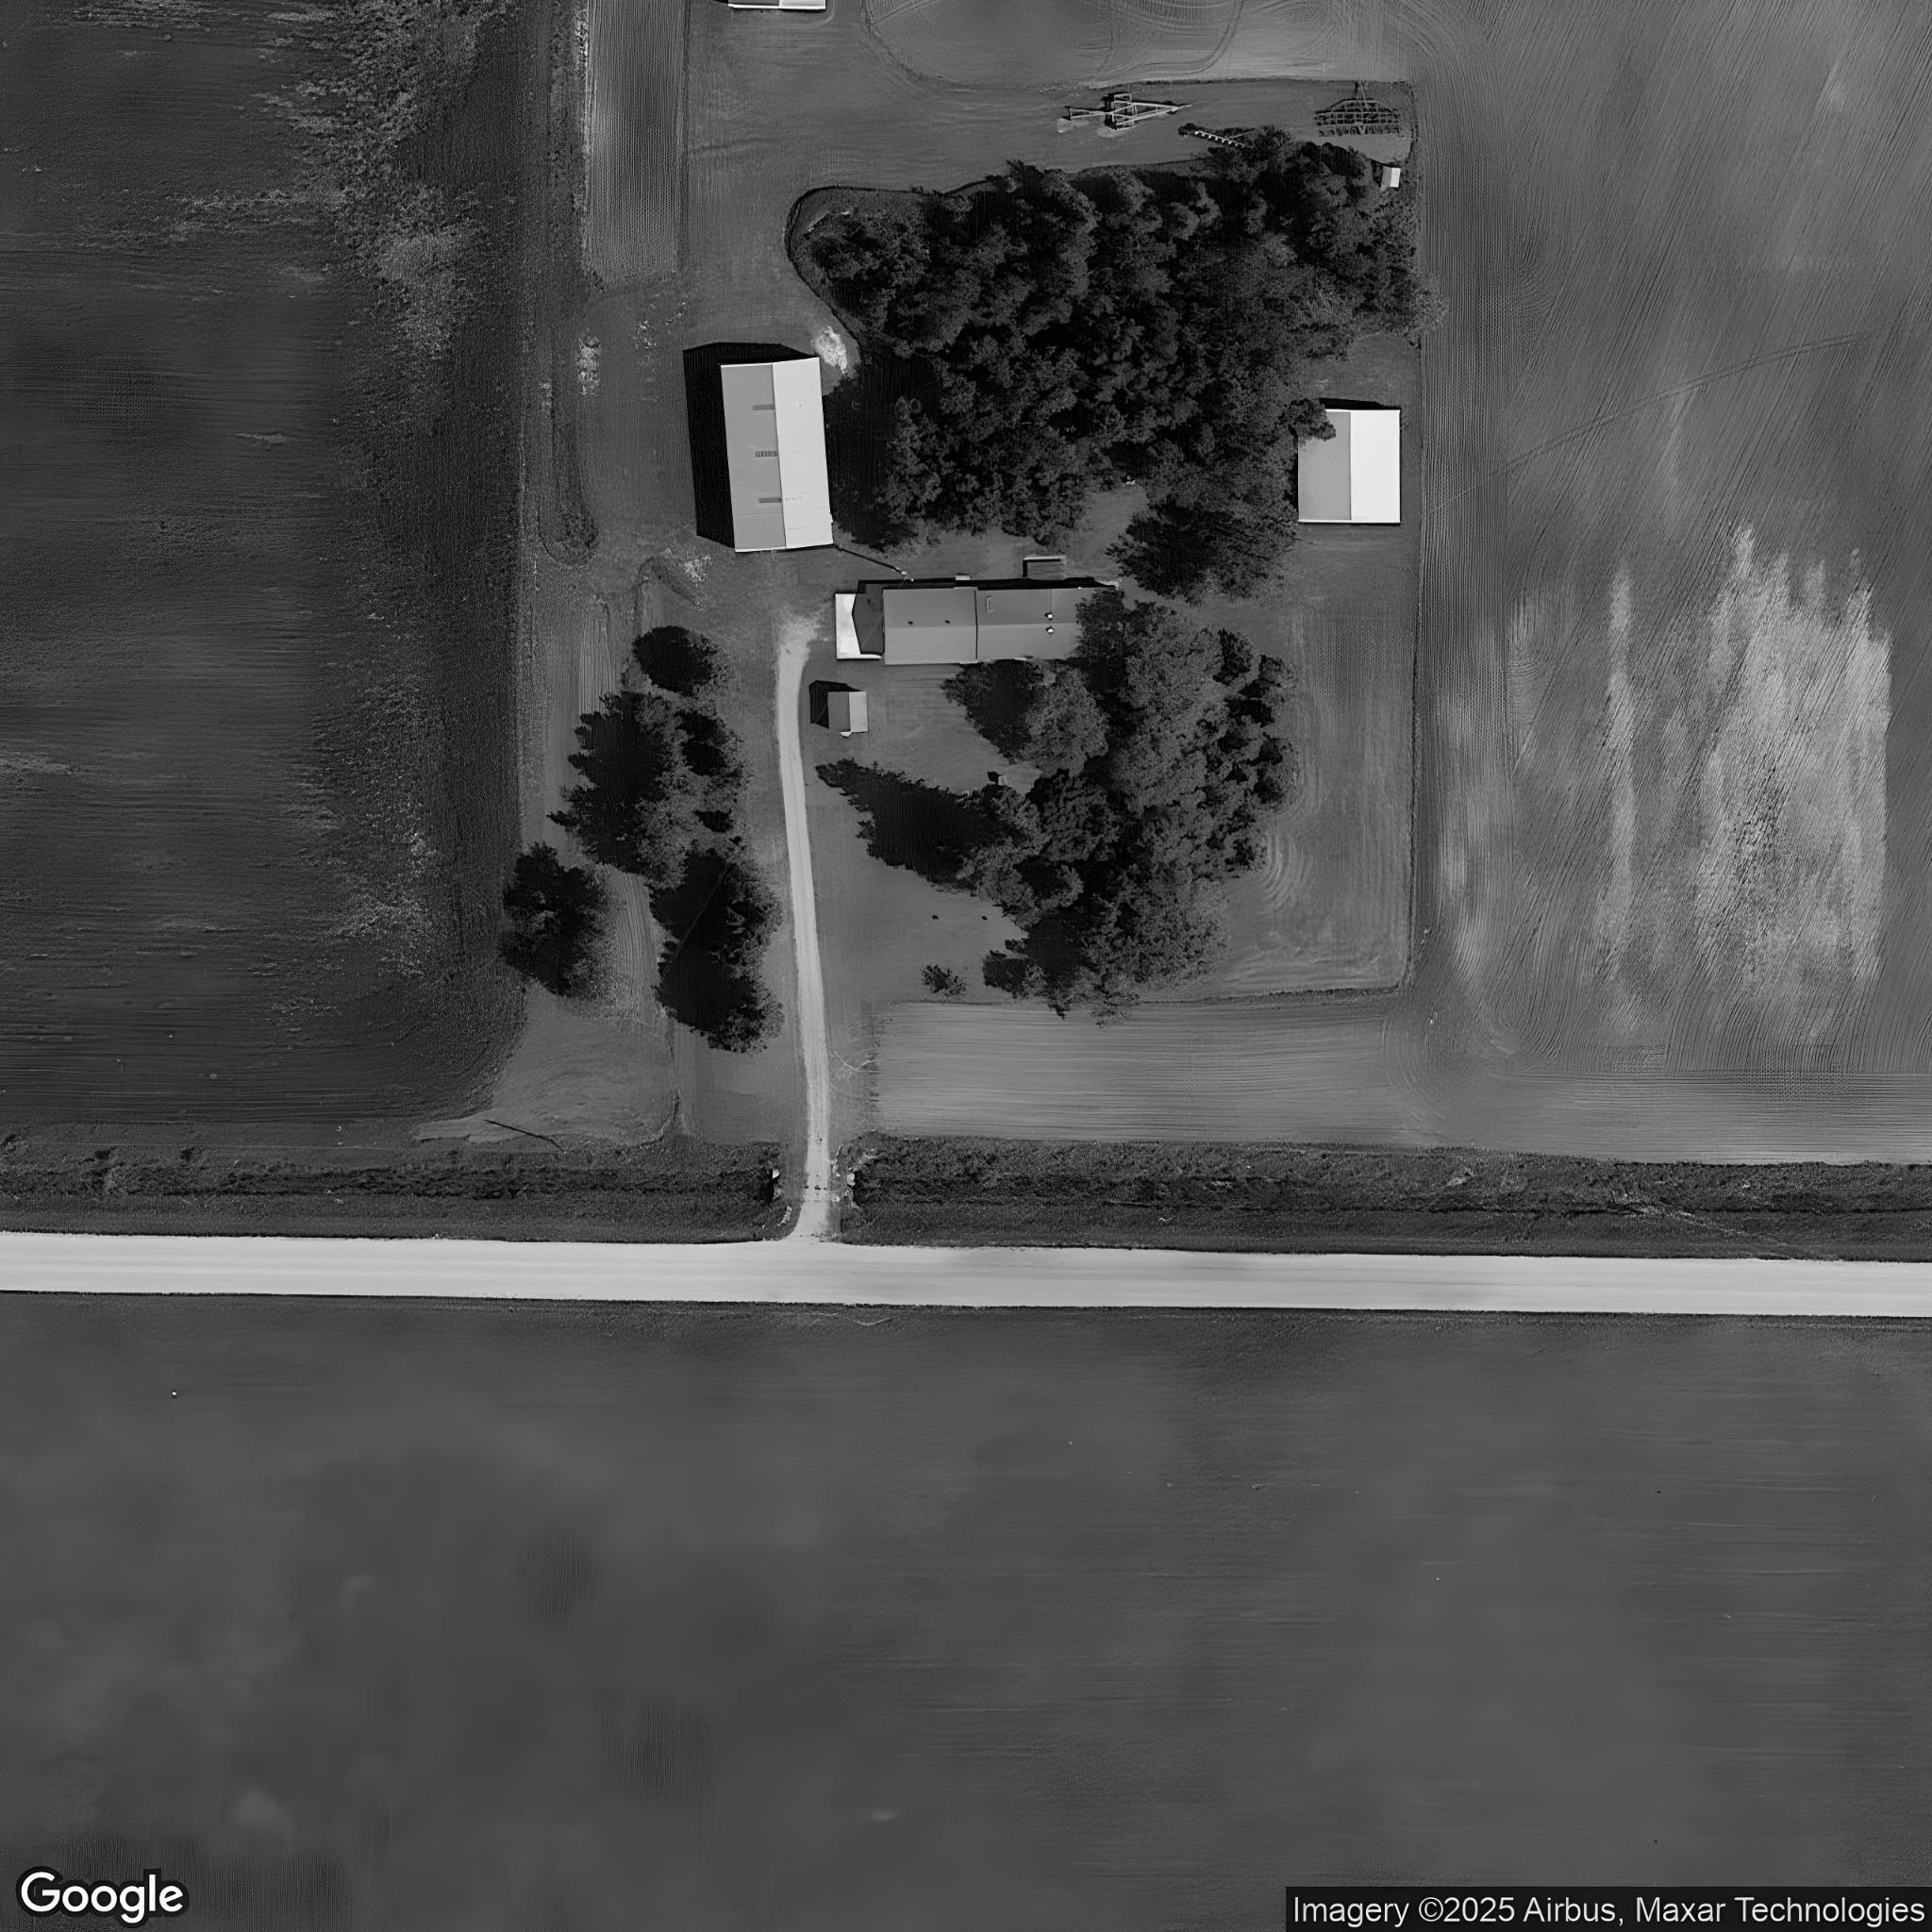Garage: (1295, 409, 1401, 524), (824, 692, 869, 732)
House: (881, 586, 1123, 665)
Other: (720, 356, 835, 554)
